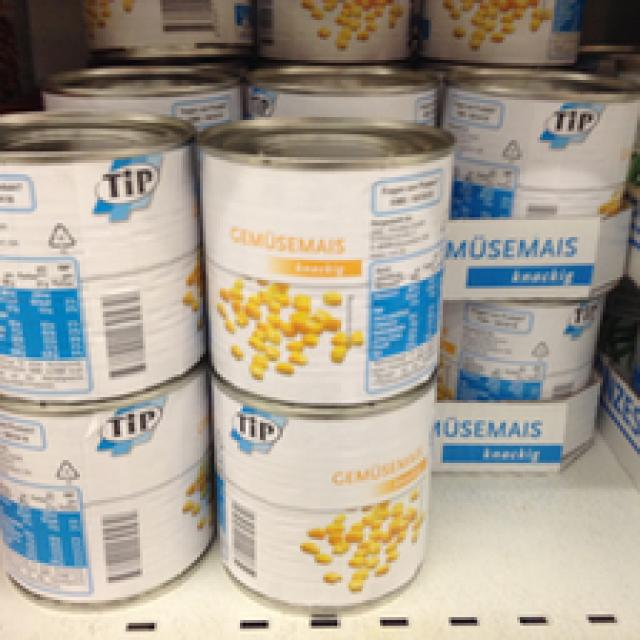groceries: (192, 111, 452, 406), (0, 109, 206, 400), (203, 366, 434, 611), (0, 377, 206, 600)
